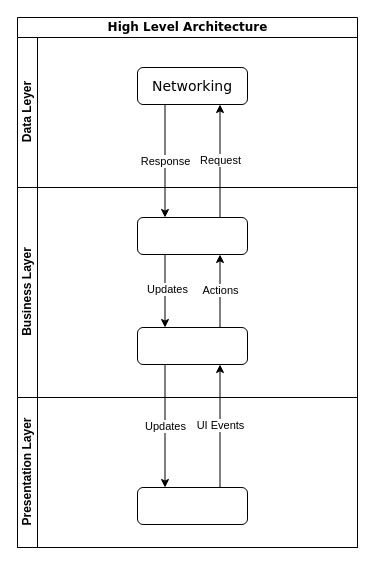
Image size: 375x565. Some labels were removed from this diagram. The centre of each missing label's shape, as x and y in pixels:
"Services" belongs at pixel 192 235.
"ViewModels" belongs at pixel 192 345.
"Views" belongs at pixel 192 505.
